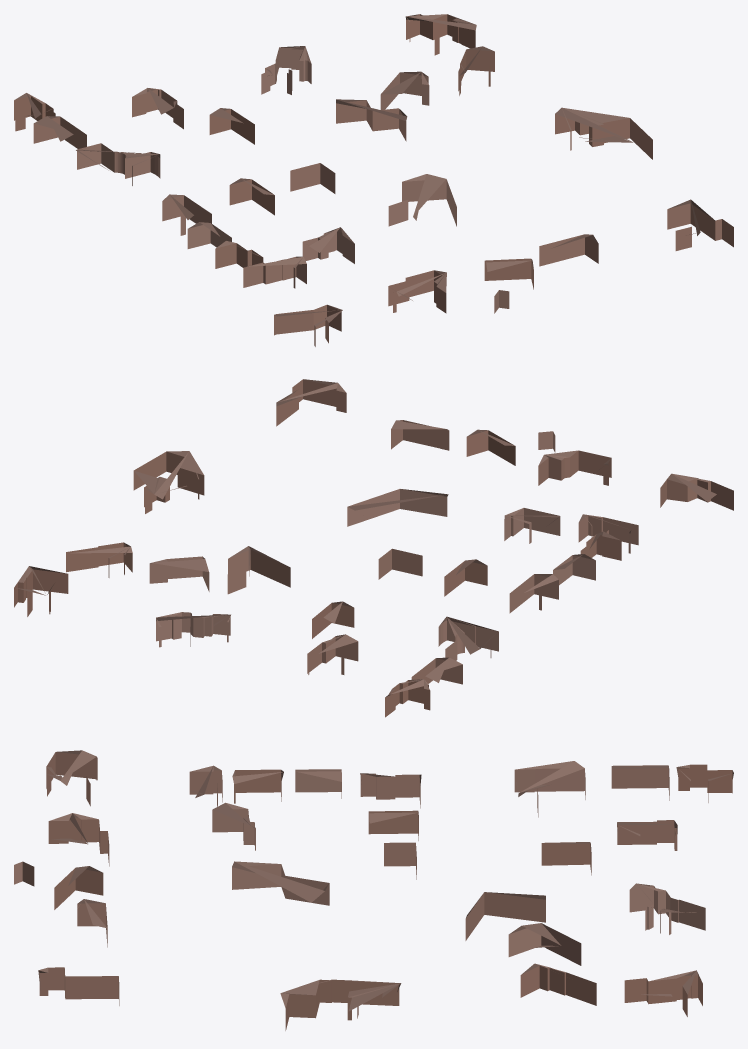
The model's file is c_1648_17824_buildings_residential.glb.
3 views of the same model, one above another, from view 1: azimuth 30°, elevation 25°; view 2: azimuth 150°, elevation 25°; view 3: azimuth 270°, elevation 25° (orthographic). The views are drawn at different scales.
Parts seen in each view (by area): view 1: geometry_0; view 2: geometry_0; view 3: geometry_0.
Boxes of the visible parts, x1,y1,x2,y2 form: geometry_0: [14, 14, 733, 346]; geometry_0: [14, 379, 733, 717]; geometry_0: [14, 750, 733, 1030].
Bounding box in the file's own units: 225 × 10.94 × 263.
